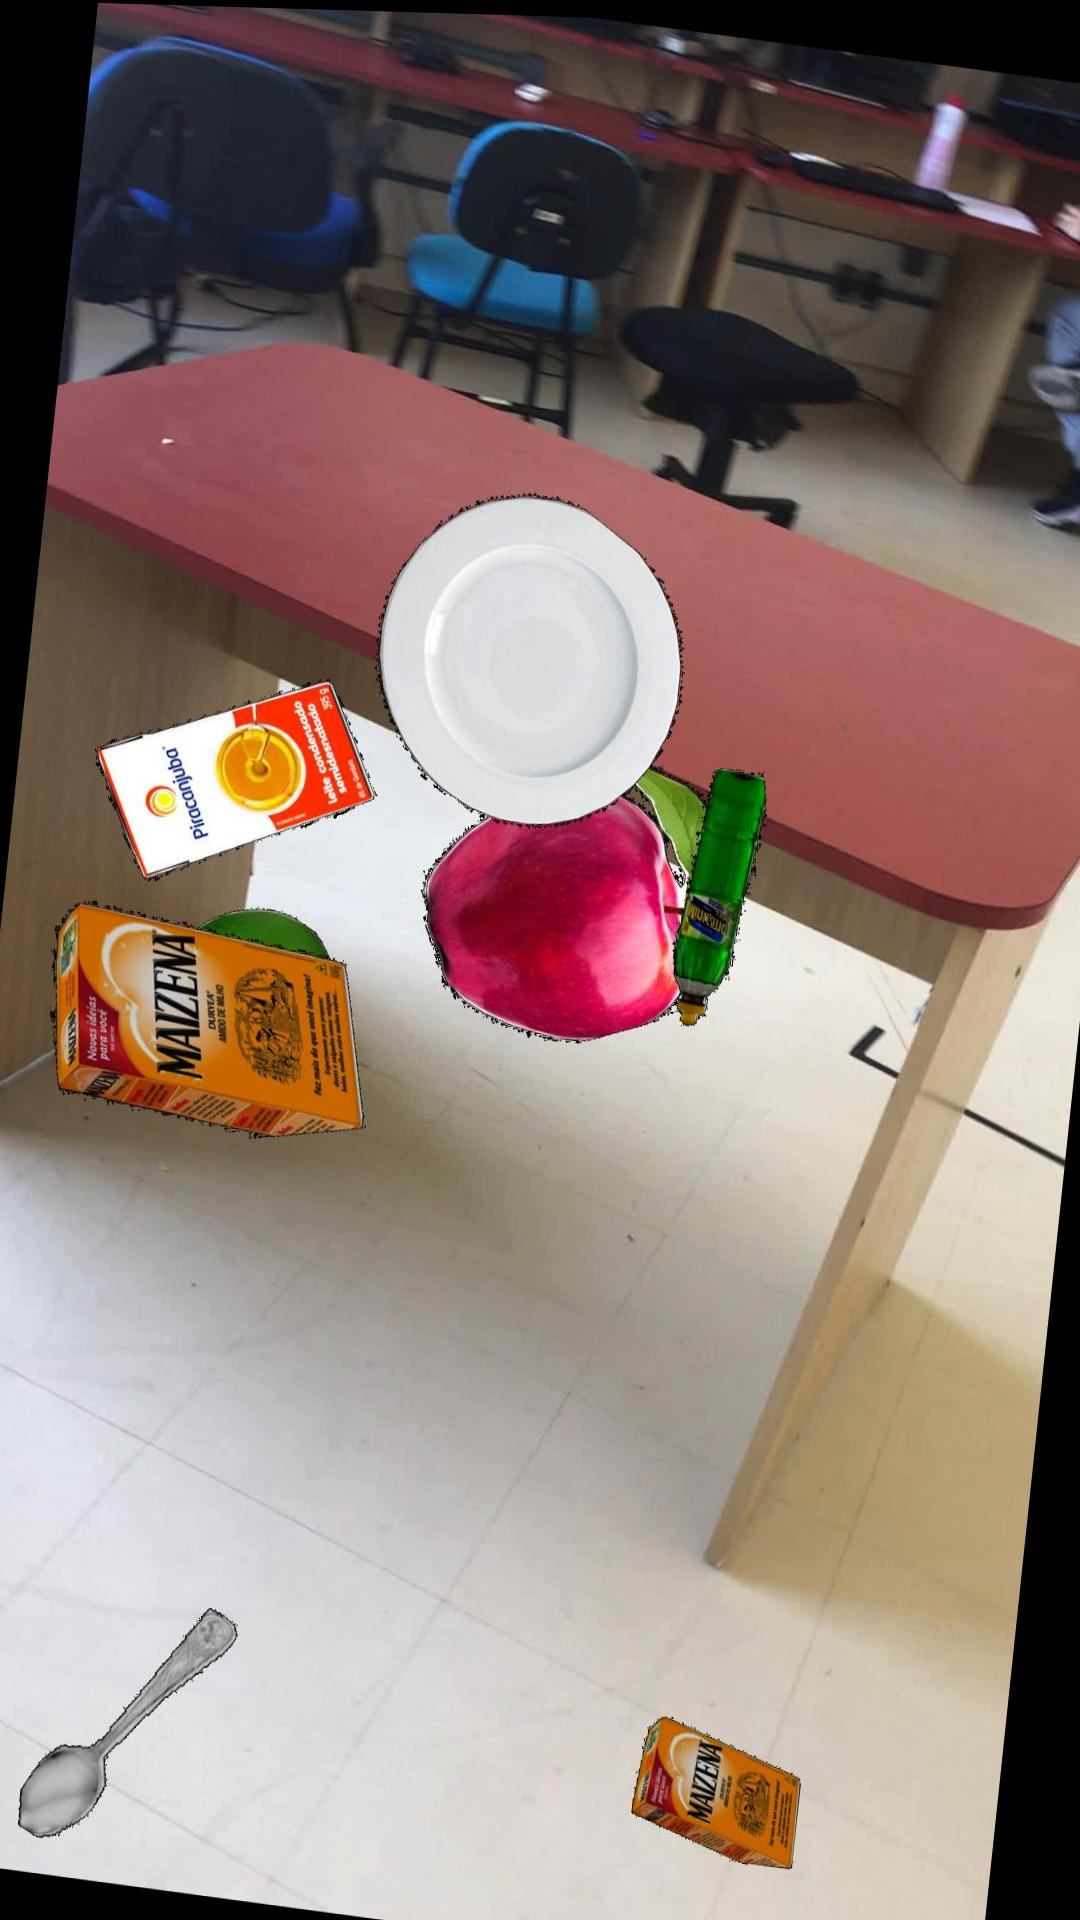apple: (425, 760, 708, 1039)
cleaner: (674, 762, 769, 1021)
green apple: (199, 906, 332, 956)
plate: (378, 491, 686, 824)
spoon: (20, 1606, 239, 1837)
